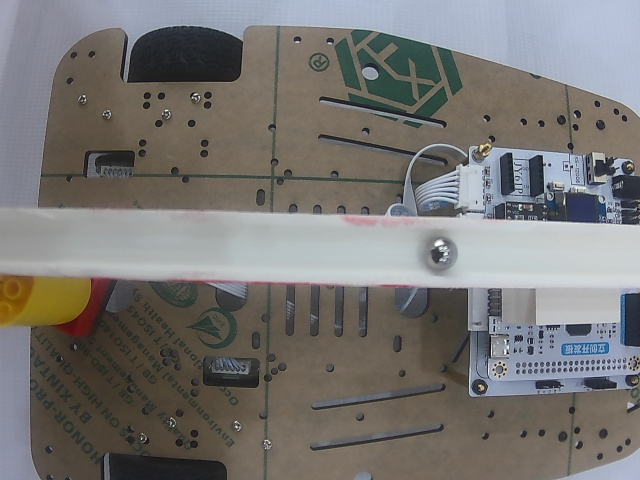steelball: (423, 236, 460, 271)
